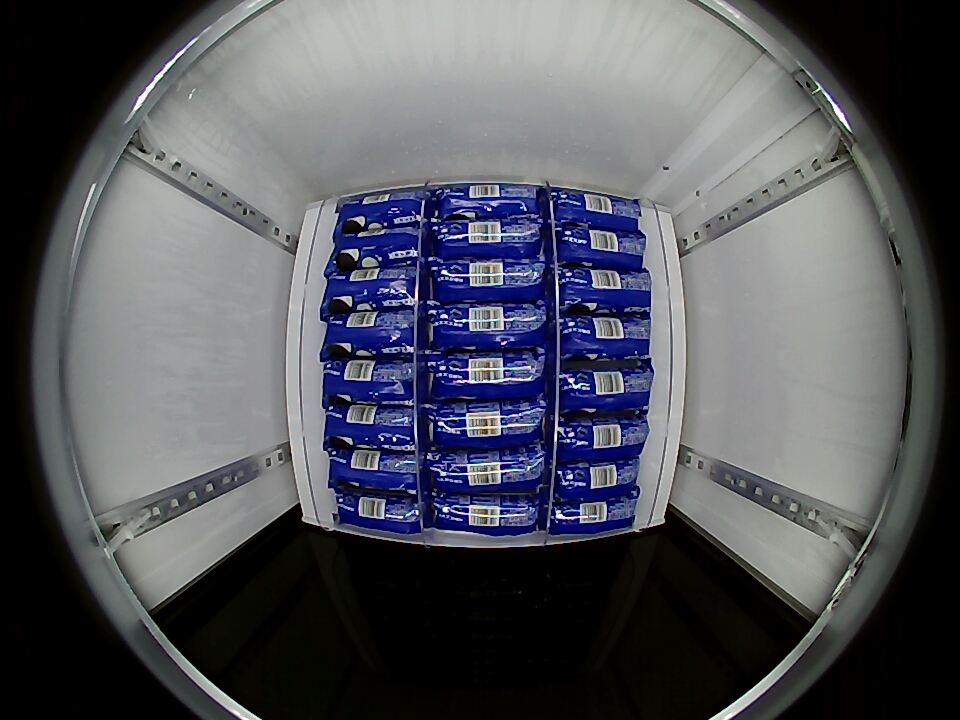aoliao: (429, 347, 546, 402), (429, 297, 547, 351), (429, 442, 546, 494), (429, 396, 546, 448), (431, 486, 542, 539), (430, 254, 546, 304), (432, 182, 543, 228), (558, 364, 655, 415), (334, 186, 425, 240), (435, 215, 541, 261), (320, 264, 417, 314), (332, 487, 425, 538), (557, 413, 649, 464), (558, 313, 653, 362), (321, 310, 416, 359), (558, 267, 653, 316), (327, 446, 421, 495), (323, 403, 417, 452), (547, 187, 644, 234), (321, 357, 415, 405), (553, 224, 647, 270), (332, 224, 422, 268), (550, 501, 641, 542), (549, 459, 644, 497)
